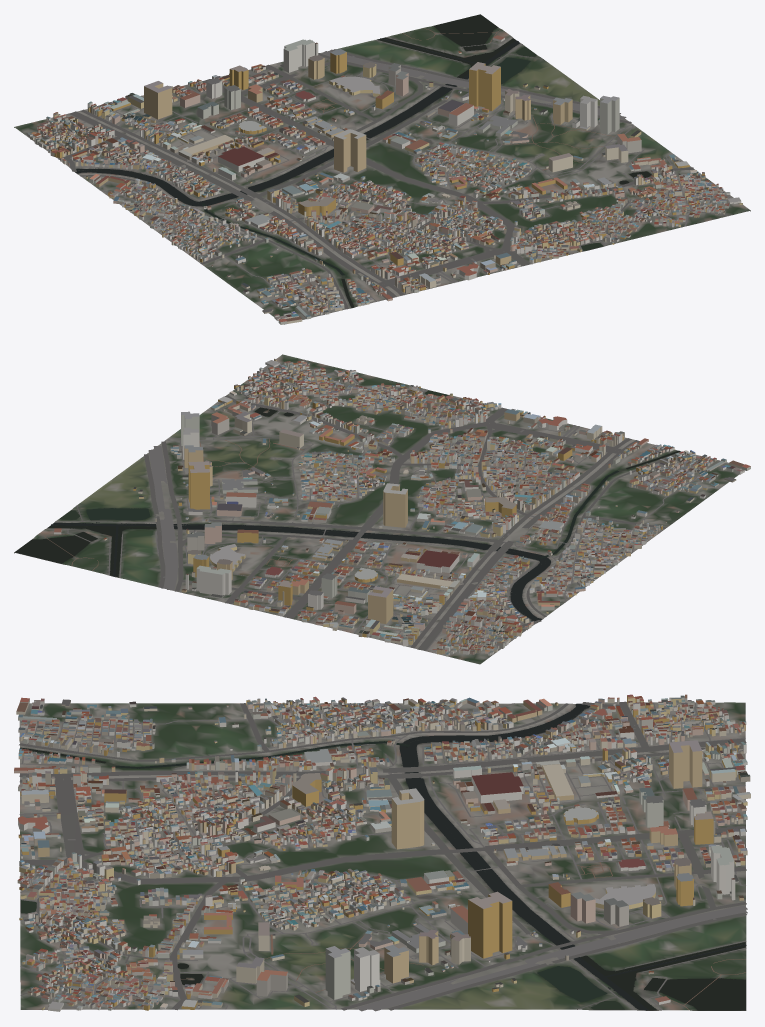
3 views of the same model, one above another, from view 1: azimuth 30°, elevation 25°; view 2: azimuth 150°, elevation 25°; view 3: azimuth 270°, elevation 25° (orthographic). The views are drawn at different scales.
Visible parts, largest first — view 1: buildings, ground, roads, water; view 2: buildings, ground, roads, water; view 3: buildings, ground, roads, water.
Boxes of the visible parts, <box> form: buildings: <box>26,35,742,324</box>; ground: <box>14,16,750,324</box>; roads: <box>33,28,730,317</box>; water: <box>75,14,652,307</box>; buildings: <box>54,358,750,656</box>; ground: <box>14,354,742,664</box>; roads: <box>44,359,720,651</box>; water: <box>15,390,680,621</box>; buildings: <box>14,694,750,1011</box>; ground: <box>19,702,746,1010</box>; roads: <box>19,701,747,1011</box>; water: <box>19,703,746,1010</box>.
Bounding box in the file's own units: 1421 × 112 × 1423.
